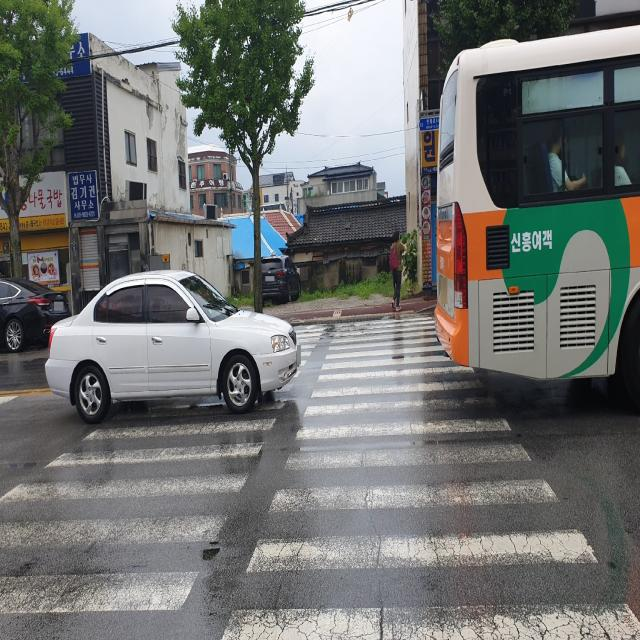횡단보도: (0, 312, 638, 639)
